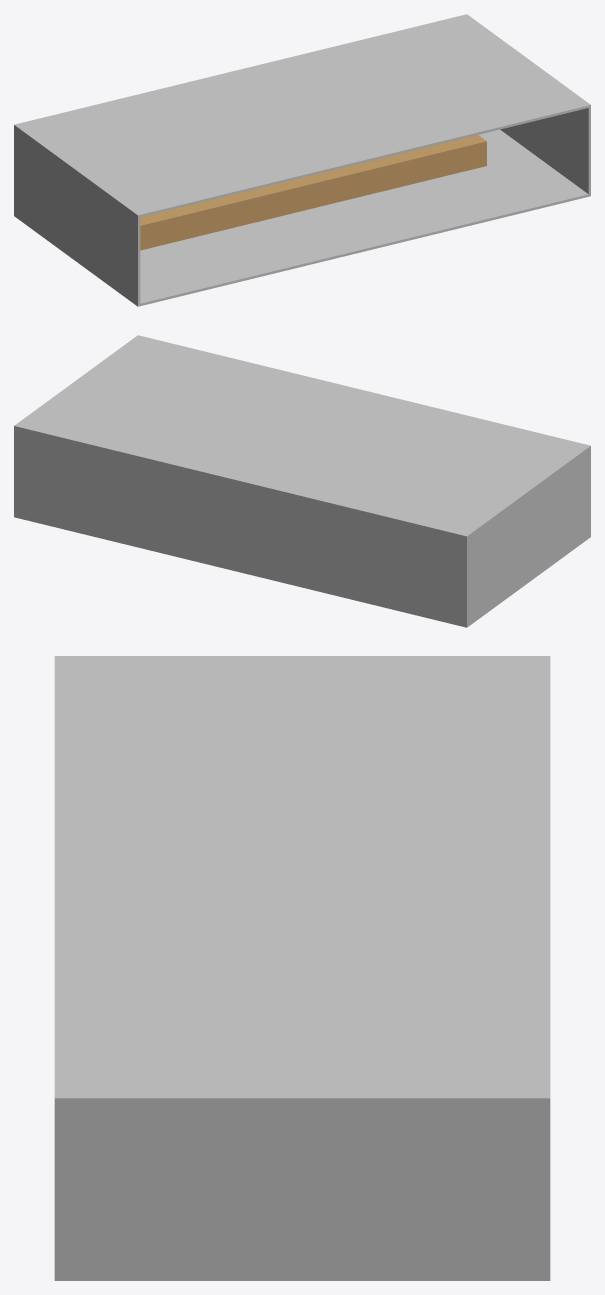
Rendered from Room.fbx.
3 renders of one model, top to bottom at view 1: azimuth 30°, elevation 25°; view 2: azimuth 150°, elevation 25°; view 3: azimuth 270°, elevation 25°, orthographic. The views are drawn at different scales.
Visible parts, largest first — view 1: Room, Counter; view 2: Room; view 3: Room.
Boxes of the visible parts, left/top/right/bottom form: Room: left=14, top=14, right=590, bottom=306; Counter: left=140, top=135, right=486, bottom=250; Room: left=14, top=335, right=590, bottom=627; Room: left=54, top=656, right=550, bottom=1280.
Bounding box in the file's own units: 1920 × 370 × 910.
